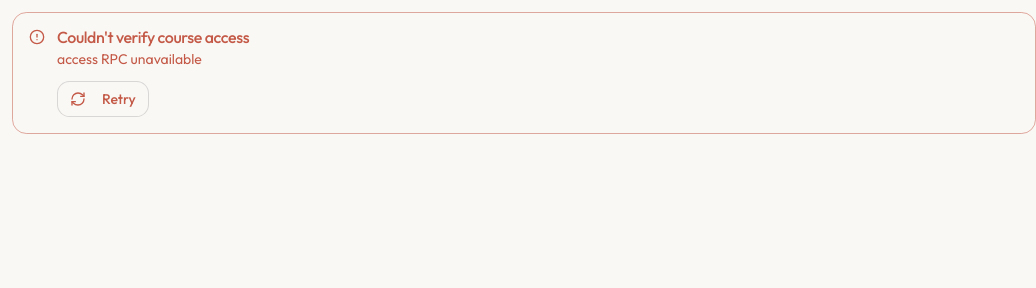
Scenario: CourseMaterials › REGRESSION: an access-check RPC failure renders an error with retry — not the enrollment verdict
The width and height of the screenshot is (1036, 288).
Expected: the message "Couldn't verify course access access RPC unavailable Retry" is shown, [12,12,1035,134]
Expected: the heading "Couldn't verify course access" is shown, [57,27,249,47]
Click the button "Retry" at (103, 99), box [57,81,149,117]
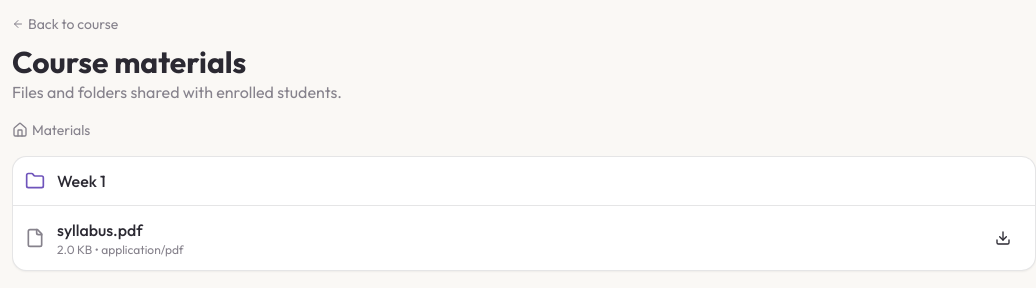
Result: the text "Week 1" is shown at [57,169,106,193]
Result: the heading "Couldn't verify course access" is gone
